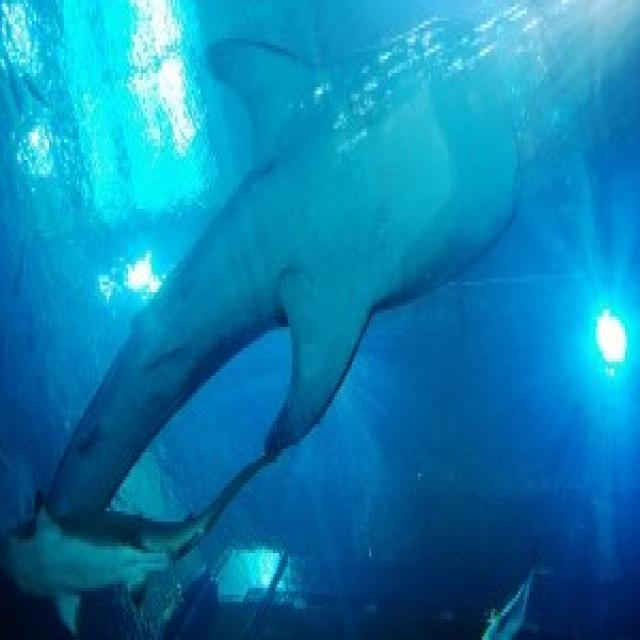Shark: (22, 3, 520, 501), (3, 502, 211, 640), (478, 547, 546, 640)
